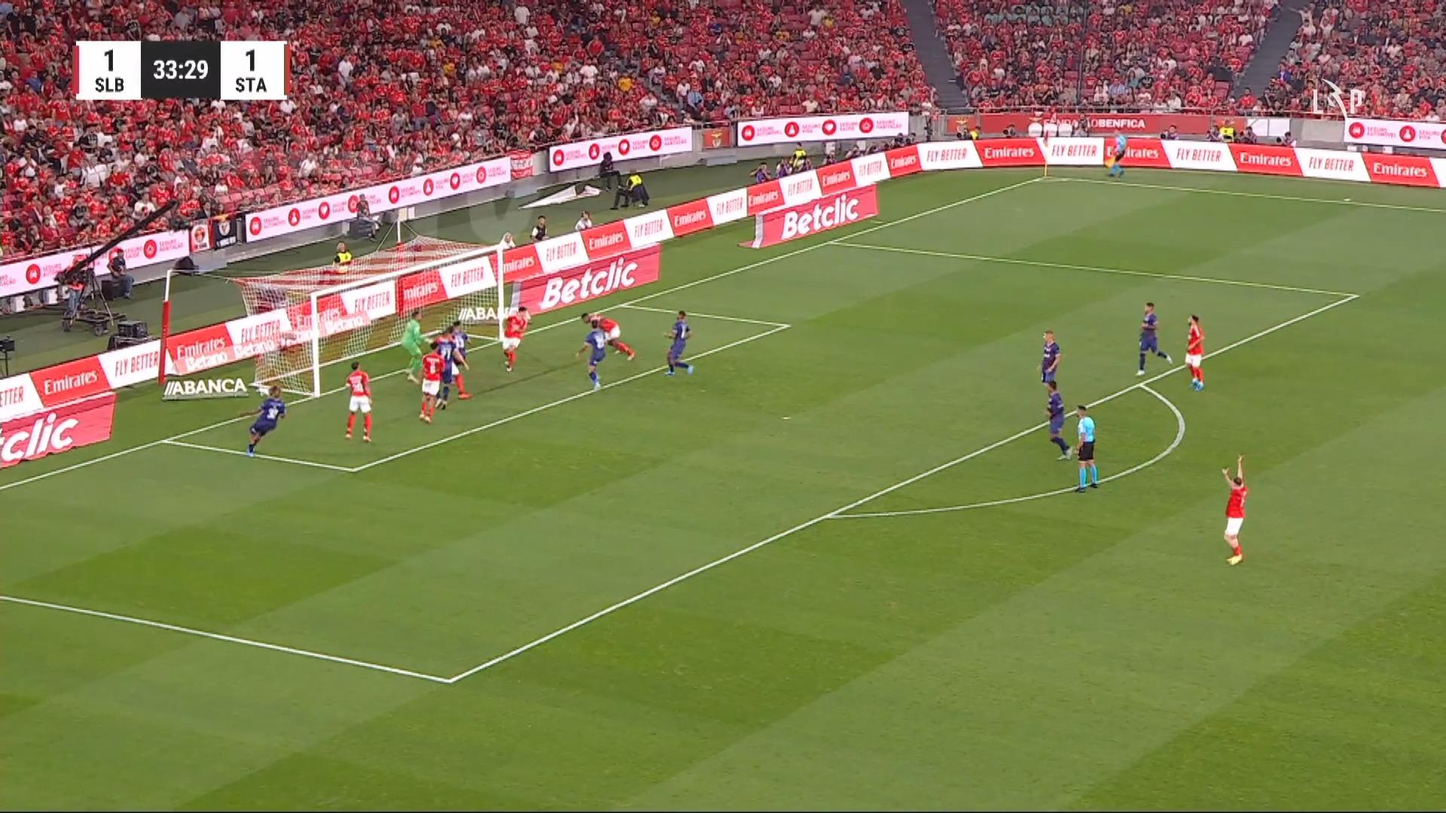goalkeeper: (401, 308, 427, 382)
player: (239, 384, 287, 457), (1220, 453, 1248, 565), (433, 330, 471, 409), (1135, 300, 1173, 376), (580, 310, 635, 361), (416, 342, 447, 423), (343, 360, 373, 443), (1044, 379, 1072, 460), (574, 324, 607, 391), (662, 309, 694, 376), (500, 304, 531, 373), (1184, 313, 1205, 390), (1037, 329, 1061, 392)
referee: (1072, 403, 1099, 492), (1104, 129, 1127, 178)
